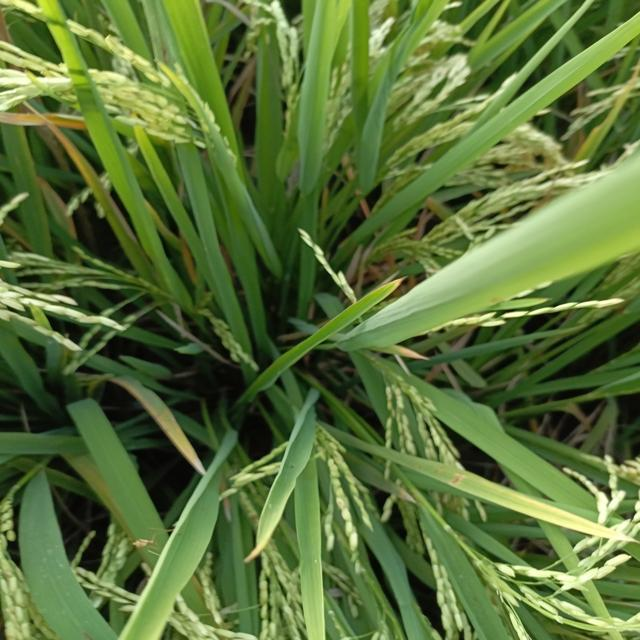Brown spot: (15, 92, 126, 218), (105, 374, 225, 478), (368, 270, 413, 304), (389, 341, 432, 364)
green leaf hopper: (123, 526, 177, 560)
